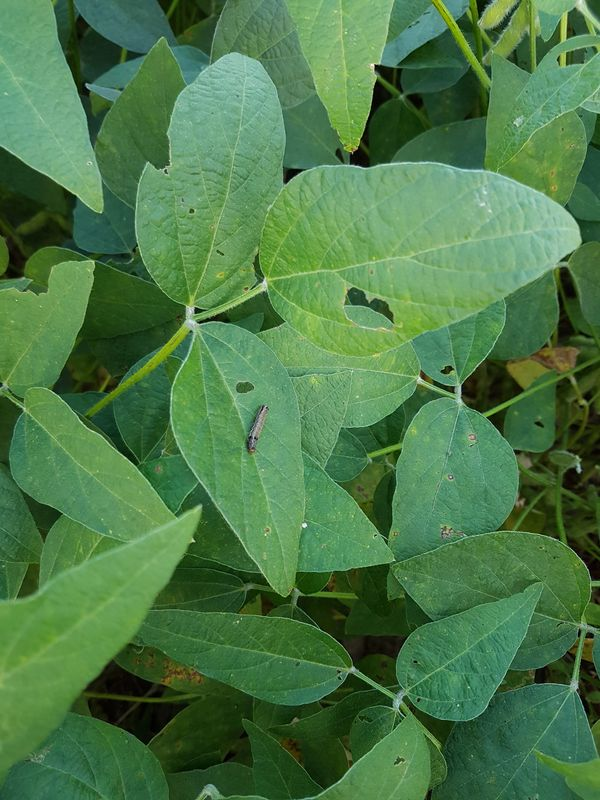Spodoptera_albula: (235, 399, 283, 458)
